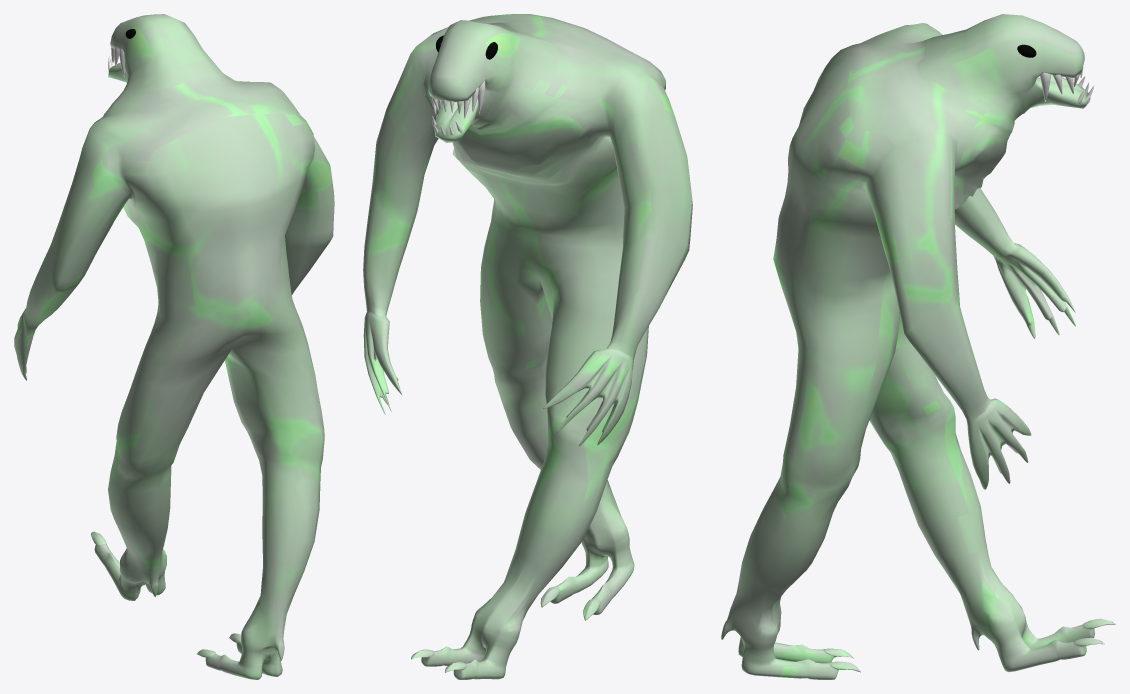
Rendered from Berserkerandar.0043.obj.
3 renders of one model, left to right at view 1: azimuth 30°, elevation 25°; view 2: azimuth 150°, elevation 25°; view 3: azimuth 270°, elevation 25°, orthographic. The views are drawn at different scales.
Visible parts, largest first — view 1: polySurface27; view 2: polySurface27; view 3: polySurface27.
Part boxes in pixels (bbox=[...]): polySurface27: bbox=[14, 14, 334, 679]; polySurface27: bbox=[363, 14, 692, 679]; polySurface27: bbox=[721, 14, 1115, 679].
Bounding box in the file's own units: 11.5 × 23.1 × 12.5.
1 material, 1 textured.
